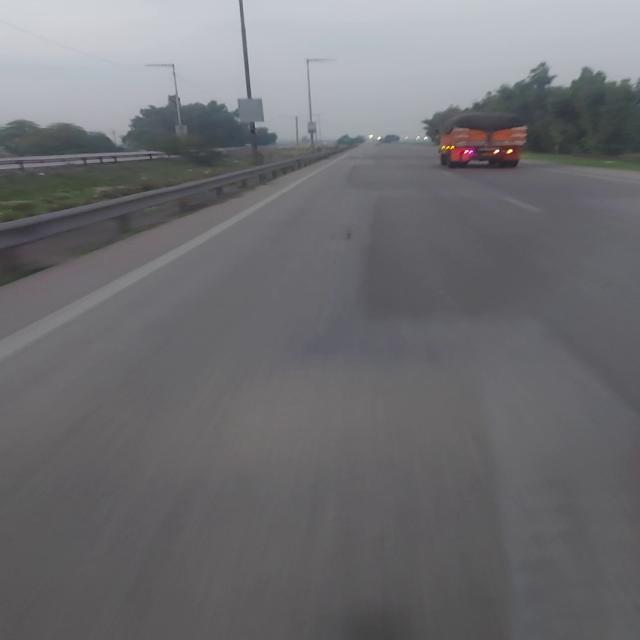Truck: (430, 108, 534, 172)
